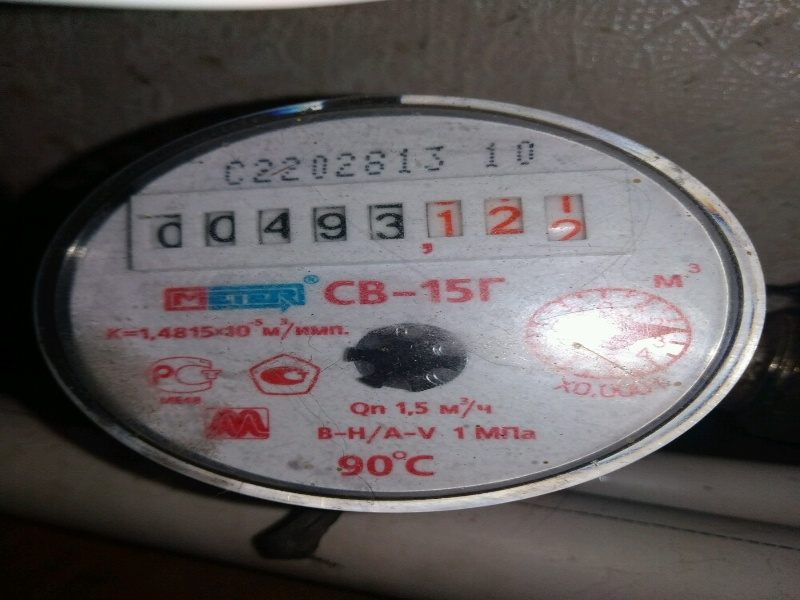meter: (136, 190, 618, 249)
